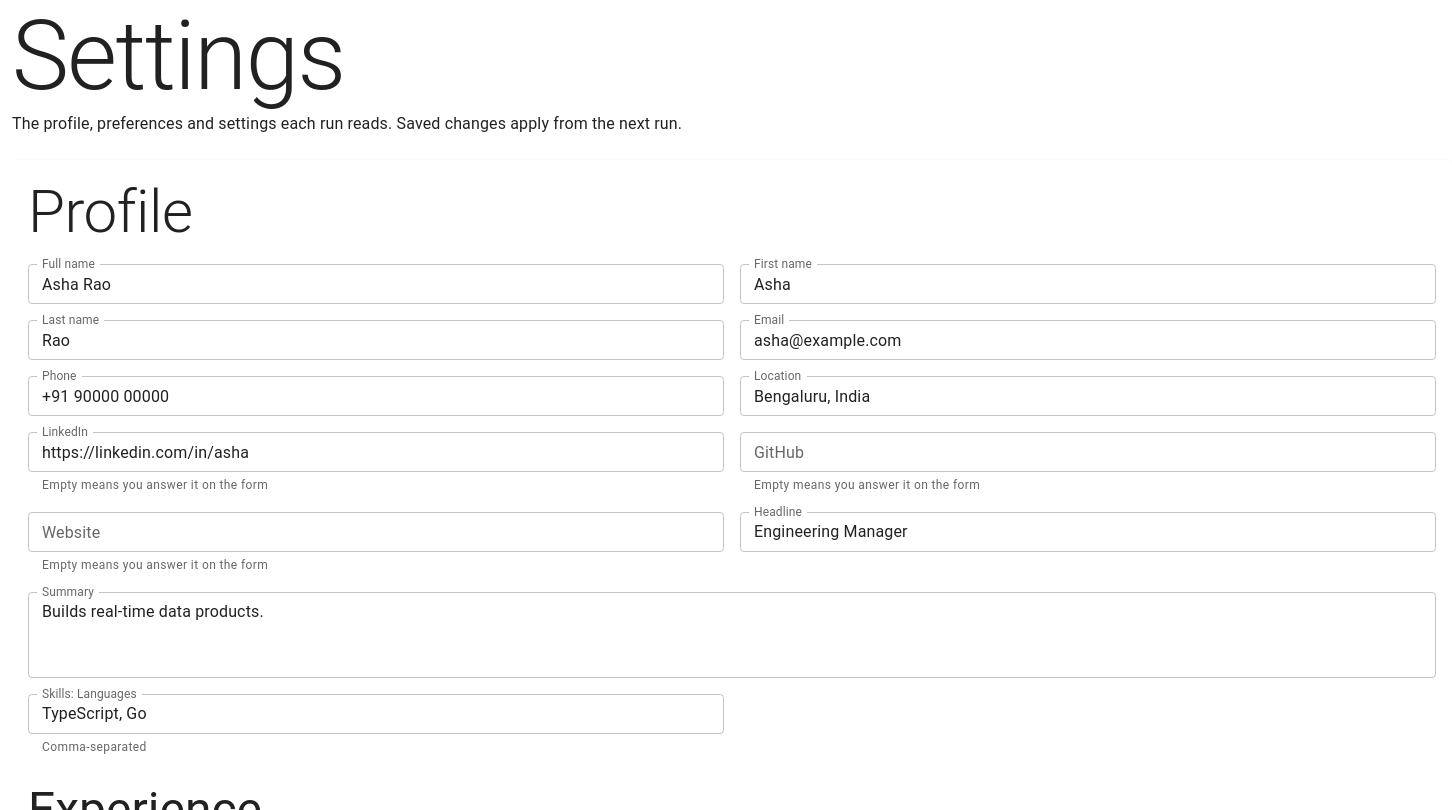
Test: <SettingsPage /> › discards unsaved edits back to the stored values
Expected: the heading "Profile" is shown, [28,176,193,247]
Step 1. Type "!!!" into the field labelled "Headline" → (1088, 532), box [740,512,1436,552]
(page scrolled)
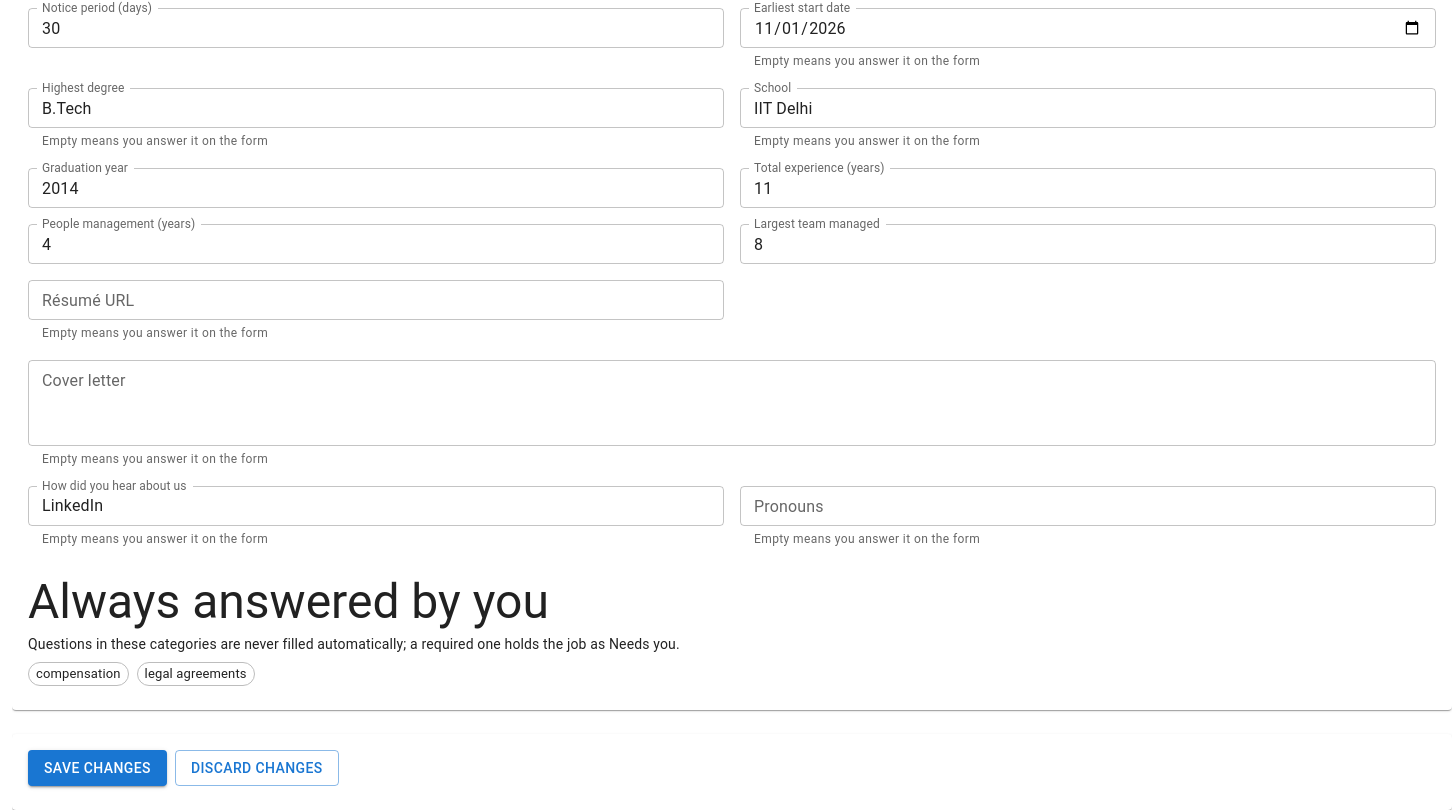
Step 2. Click the button "Discard changes" → (257, 768), box [175,750,339,786]
(page scrolled)
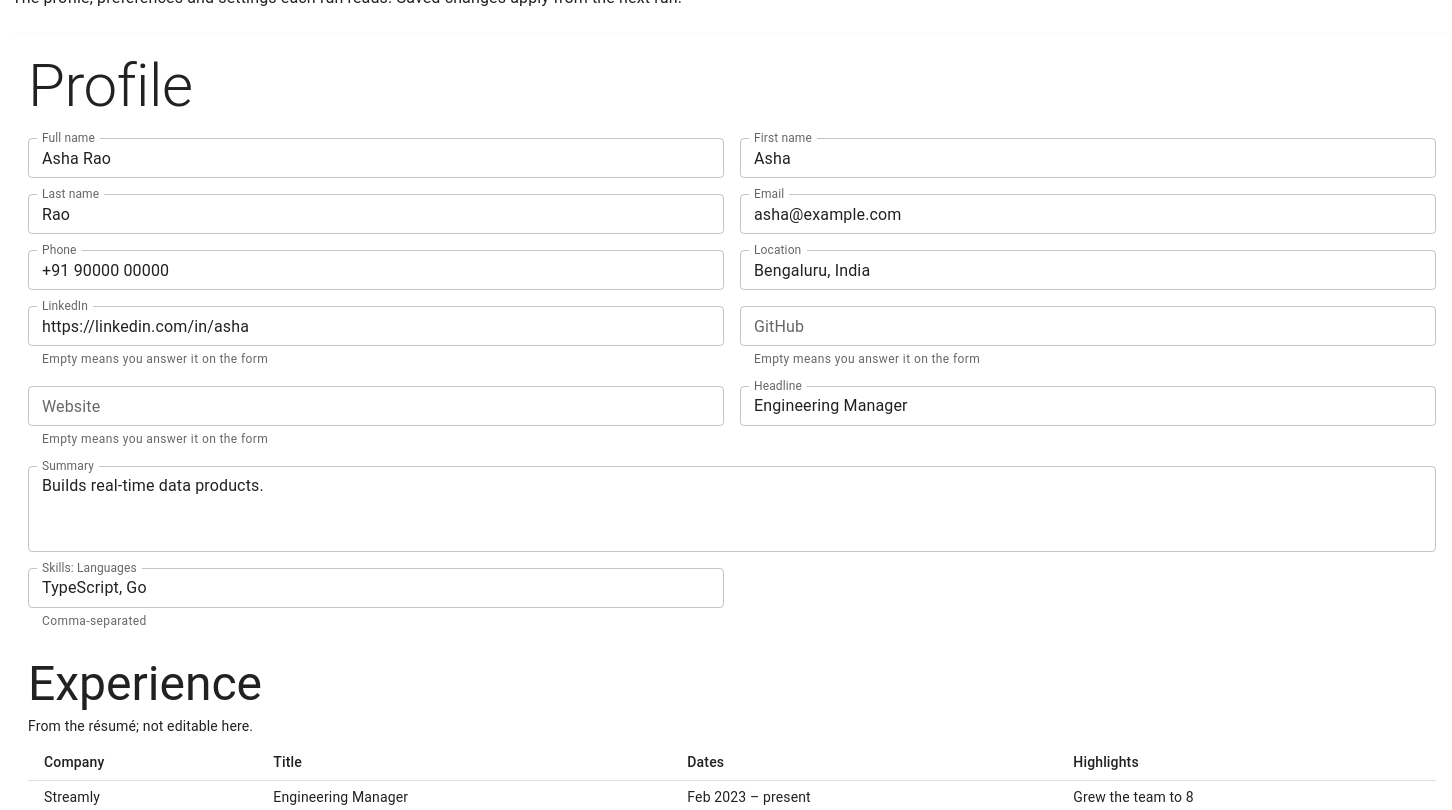
Now the field labelled "Headline" holds "Engineering Manager", box [740,386,1436,426]
